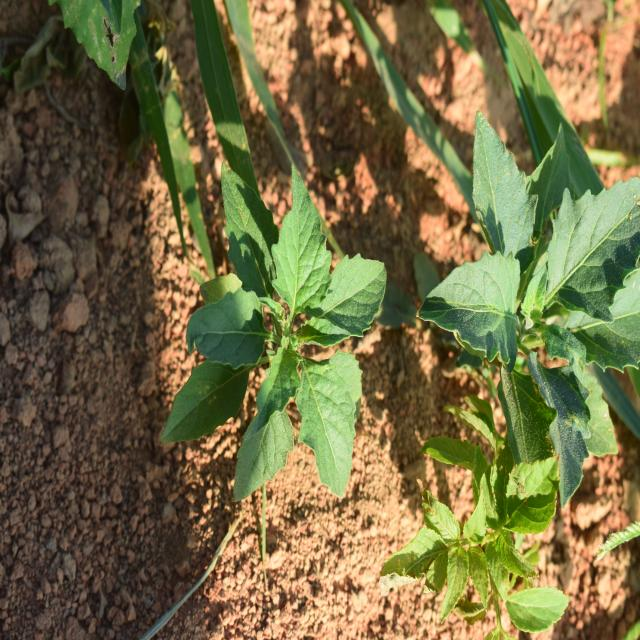Black_nightshade: (443, 132, 636, 474), (194, 195, 386, 518)
